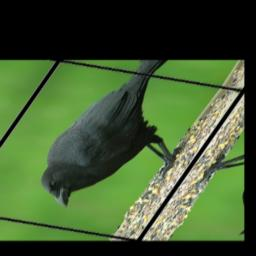Crow: (14, 68, 231, 219)
